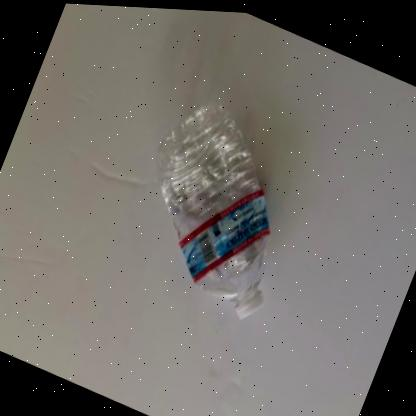Plastic: (156, 103, 269, 315)
